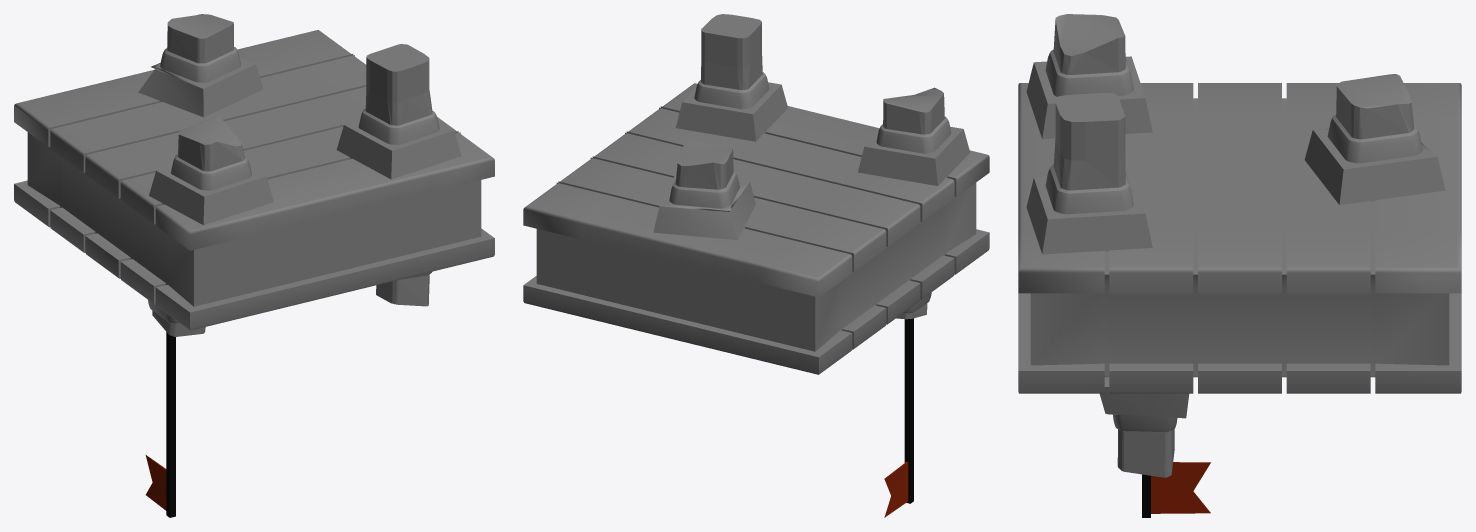
The model's file is platform-stone-fin 1.fbx.
3 renders of one model, left to right at view 1: azimuth 30°, elevation 25°; view 2: azimuth 150°, elevation 25°; view 3: azimuth 270°, elevation 25°, orthographic. The views are drawn at different scales.
Parts seen in each view (by area): view 1: platform-stone; view 2: platform-stone; view 3: platform-stone.
Boxes of the visible parts, left/top/right/bottom form: platform-stone: left=14, top=14, right=494, bottom=517; platform-stone: left=523, top=14, right=989, bottom=517; platform-stone: left=1018, top=14, right=1461, bottom=517.
Size of the model in its own units: 197 by 262 by 197.
